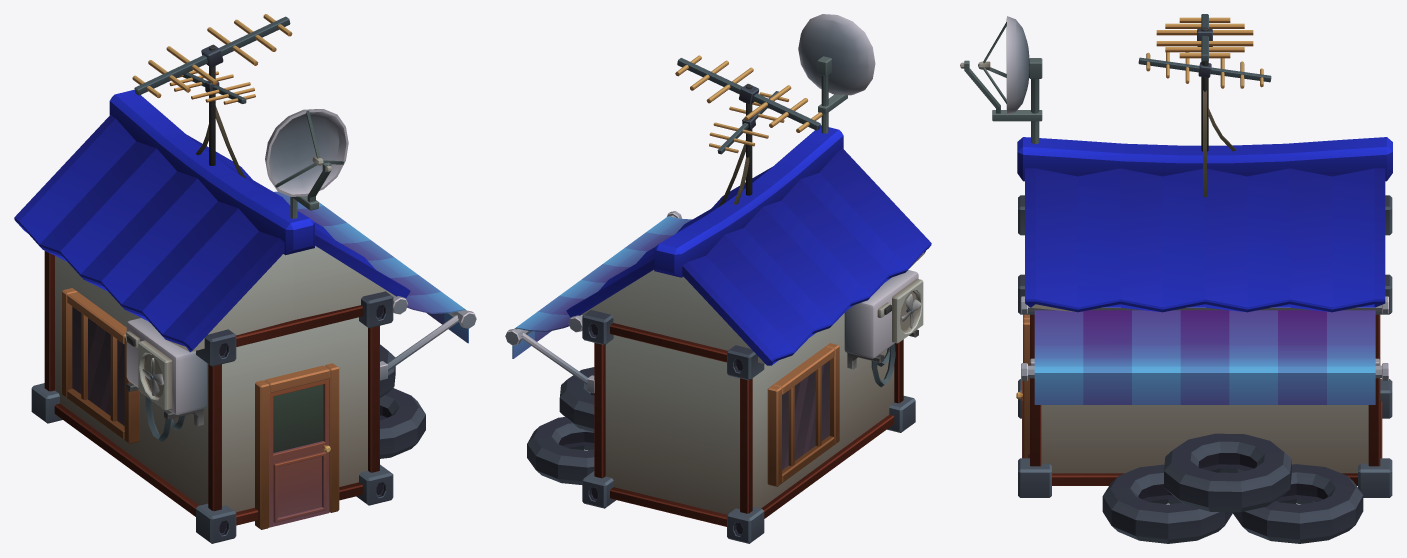
File: sp_prebuild_house_03.fbx
3 renders of one model, left to right at view 1: azimuth 30°, elevation 25°; view 2: azimuth 150°, elevation 25°; view 3: azimuth 270°, elevation 25°, orthographic. The views are drawn at different scales.
Visible parts, largest first — view 1: finb_house_03; view 2: finb_house_03; view 3: finb_house_03.
Boxes of the visible parts, x1,y1,x2,y2 form: finb_house_03: (14,14,476,543); finb_house_03: (505,14,931,543); finb_house_03: (960,14,1392,543).
Bounding box in the file's own units: 489 × 641 × 577.
